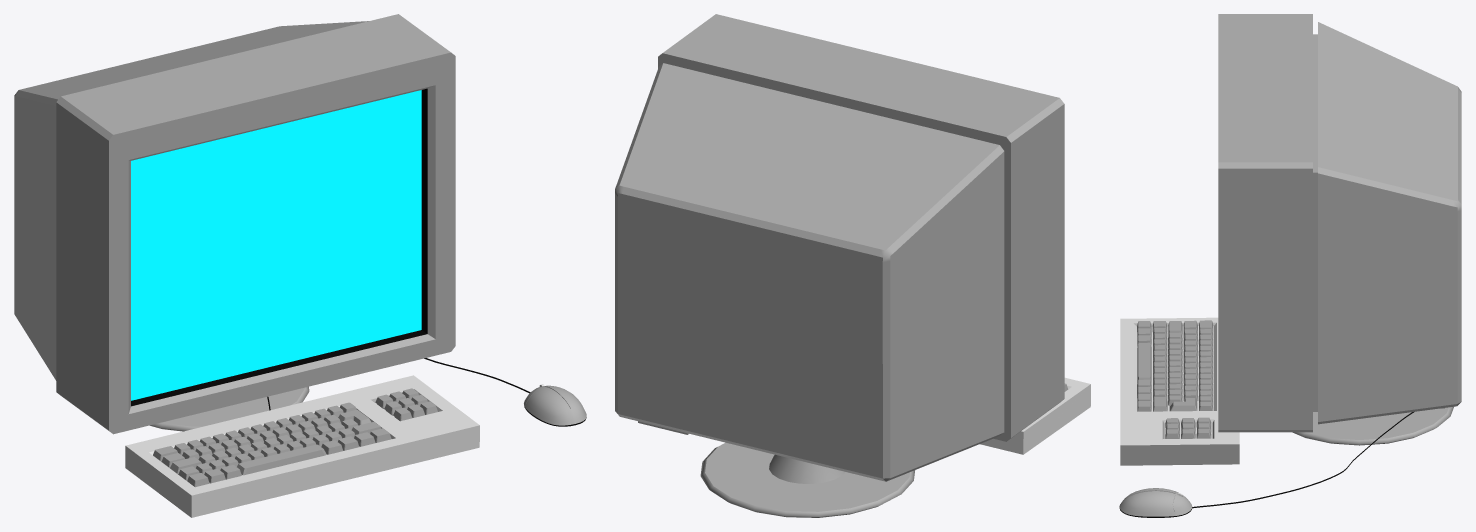
File: パソコン.fbx
3 renders of one model, left to right at view 1: azimuth 30°, elevation 25°; view 2: azimuth 150°, elevation 25°; view 3: azimuth 270°, elevation 25°, orthographic. The views are drawn at different scales.
Parts seen in each view (by area): view 1: pCylinder9; view 2: pCylinder9; view 3: pCylinder9.
Boxes of the visible parts, bbox=[...] form: pCylinder9: bbox=[14, 14, 586, 517]; pCylinder9: bbox=[615, 14, 1090, 517]; pCylinder9: bbox=[1119, 14, 1461, 517].
Bounding box in the file's own units: 2.53 × 1.97 × 1.92.
